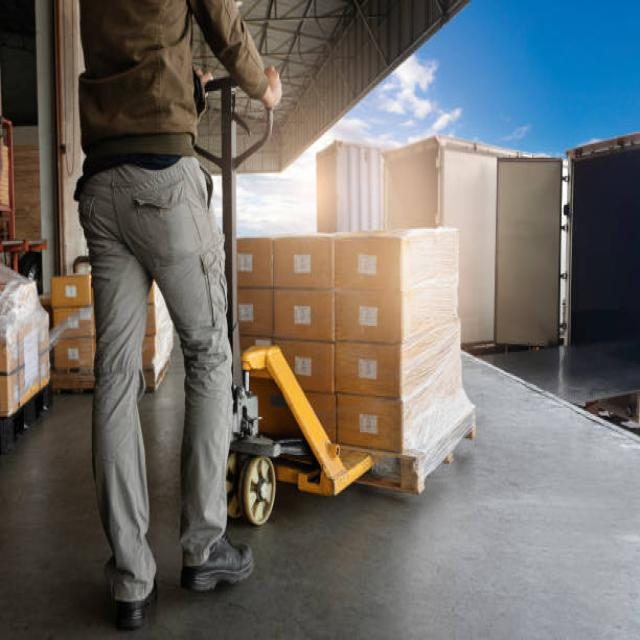Wooden-Pallets: (356, 413, 478, 504)
